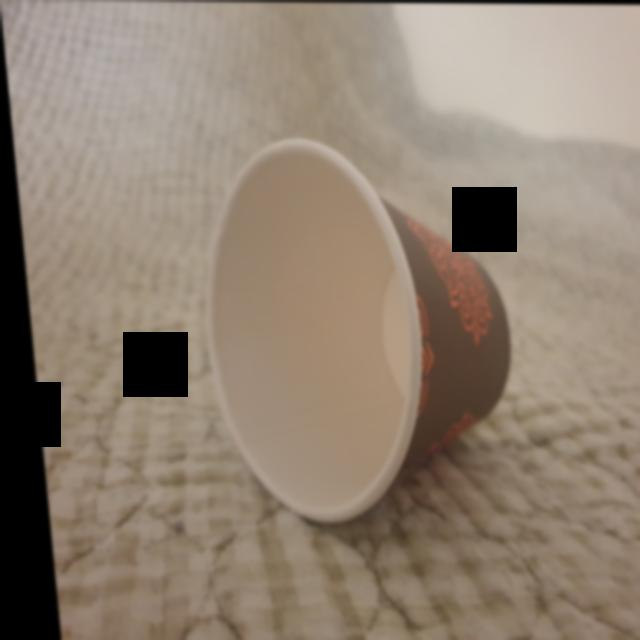cups: (180, 133, 526, 532)
